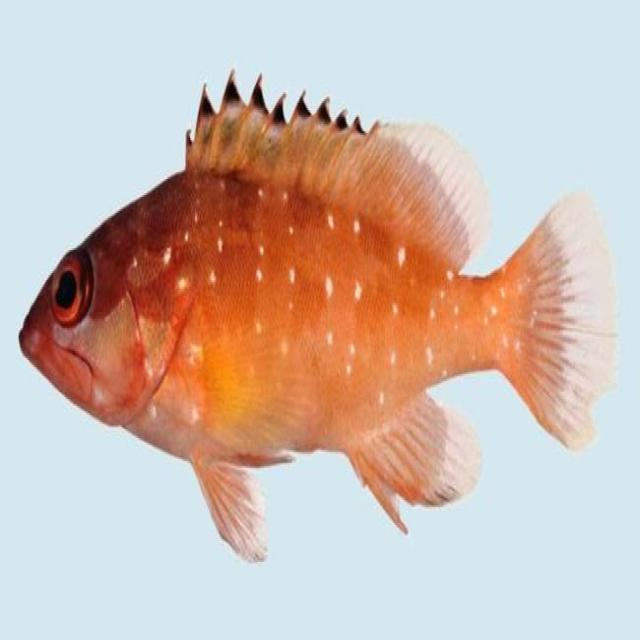ikan: (18, 66, 618, 564)
